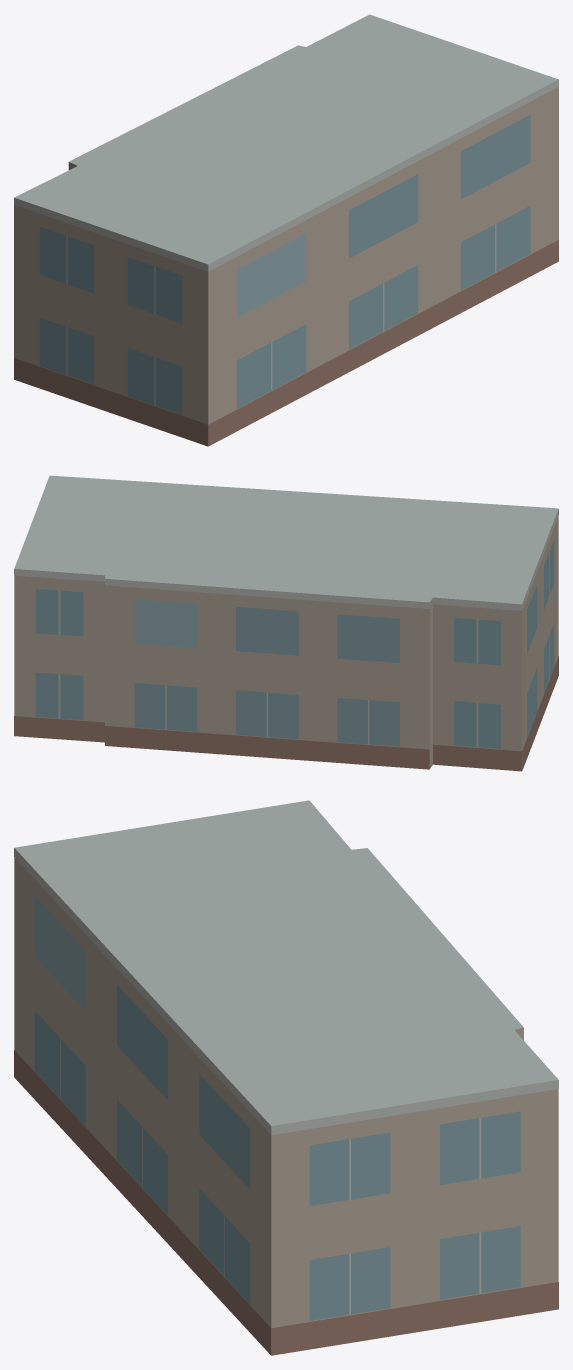
Rendered from survey-upis-33011178.glb.
The picture shows the model from 3 angles, top to bottom: view 1: azimuth 30°, elevation 25°; view 2: azimuth 150°, elevation 25°; view 3: azimuth 270°, elevation 25°; orthographic projection. The views are drawn at different scales.
Visible parts, largest first — view 1: survey-upis-33011178.tmp; view 2: survey-upis-33011178.tmp; view 3: survey-upis-33011178.tmp.
Part boxes in pixels (x1=…): survey-upis-33011178.tmp: x1=14, y1=14, x2=558, y2=446; survey-upis-33011178.tmp: x1=14, y1=475, x2=558, y2=771; survey-upis-33011178.tmp: x1=14, y1=800, x2=558, y2=1355.
Bounding box in the file's own units: 18.59 × 6.1 × 13.13.
